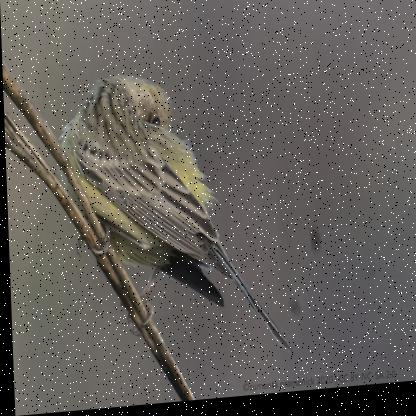Burung: (54, 68, 286, 369)
